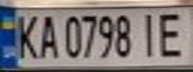0: (60, 11, 81, 60)
7: (78, 11, 100, 60)
8: (112, 11, 136, 58)
9: (97, 11, 118, 60)
A: (33, 11, 60, 60)
E: (154, 8, 190, 59)
I: (136, 10, 163, 58)
K: (9, 10, 42, 61)
